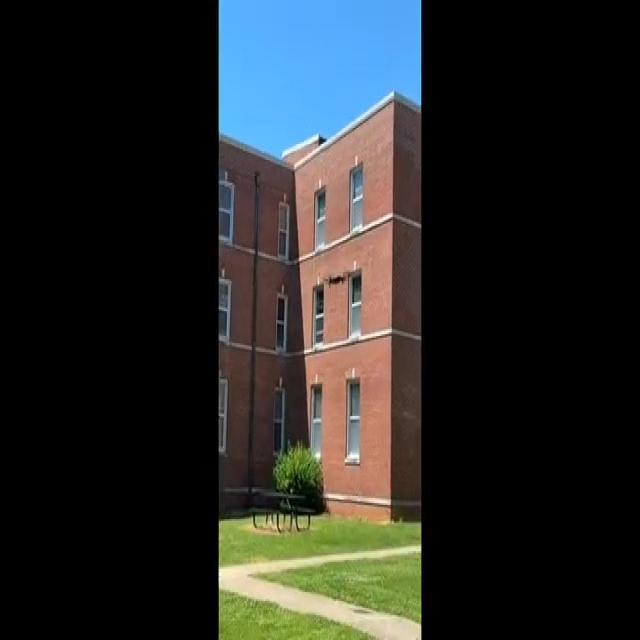drone: (320, 268, 356, 291)
